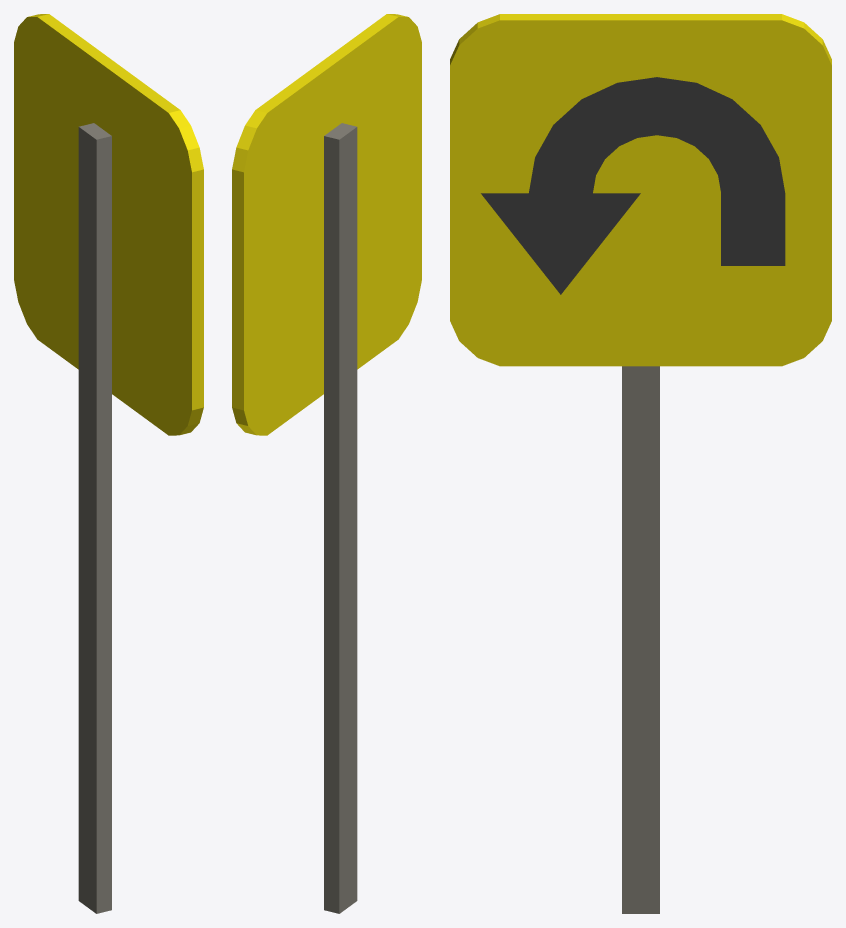
File: Prop_Track_Sign_Upcoming_Curve_180.obj
3 renders of one model, left to right at view 1: azimuth 30°, elevation 25°; view 2: azimuth 150°, elevation 25°; view 3: azimuth 270°, elevation 25°, orthographic. The views are drawn at different scales.
Visible parts, largest first — view 1: Sign_Yellow, Sign_Post; view 2: Sign_Yellow, Sign_Post; view 3: Sign_Yellow, Sign_Black_Paint, Sign_Post.
Boxes of the visible parts, bbox=[...] form: Sign_Yellow: bbox=[14, 14, 203, 435]; Sign_Post: bbox=[78, 123, 111, 913]; Sign_Yellow: bbox=[232, 14, 421, 435]; Sign_Post: bbox=[324, 123, 357, 913]; Sign_Yellow: bbox=[450, 14, 831, 366]; Sign_Black_Paint: bbox=[481, 77, 785, 294]; Sign_Post: bbox=[622, 366, 659, 913].
Size of the model in its own units: 0.0458 by 1.34 by 0.5161.
